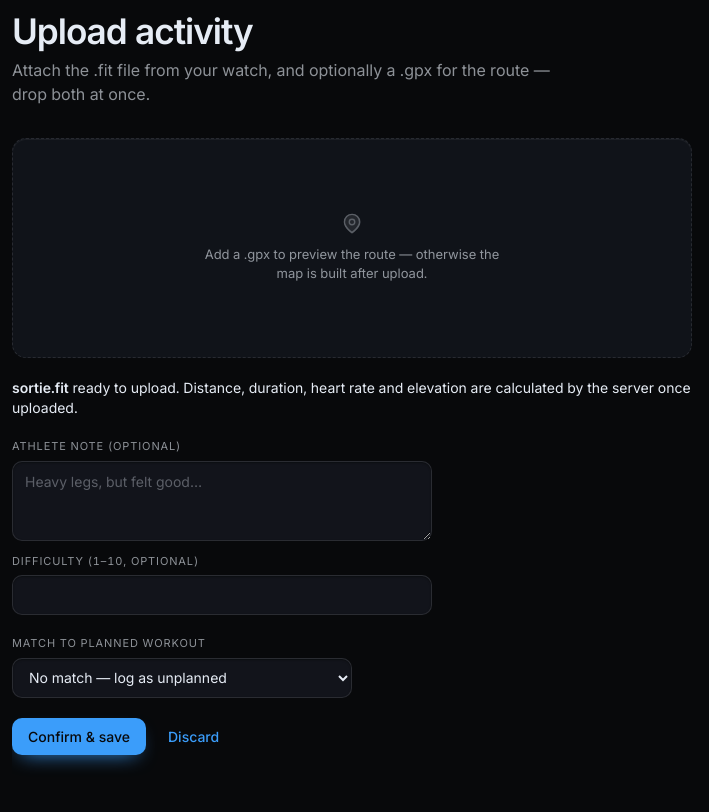
Test: UploadView — envoi › refuse la difficulté 0 sans appeler l’API
The width and height of the screenshot is (709, 812).
Earlier steps of the test are not shown.
Type "0" into the number field labelled "Difficulty (1–10, optional)" at (222, 595), box [12,575,432,615]
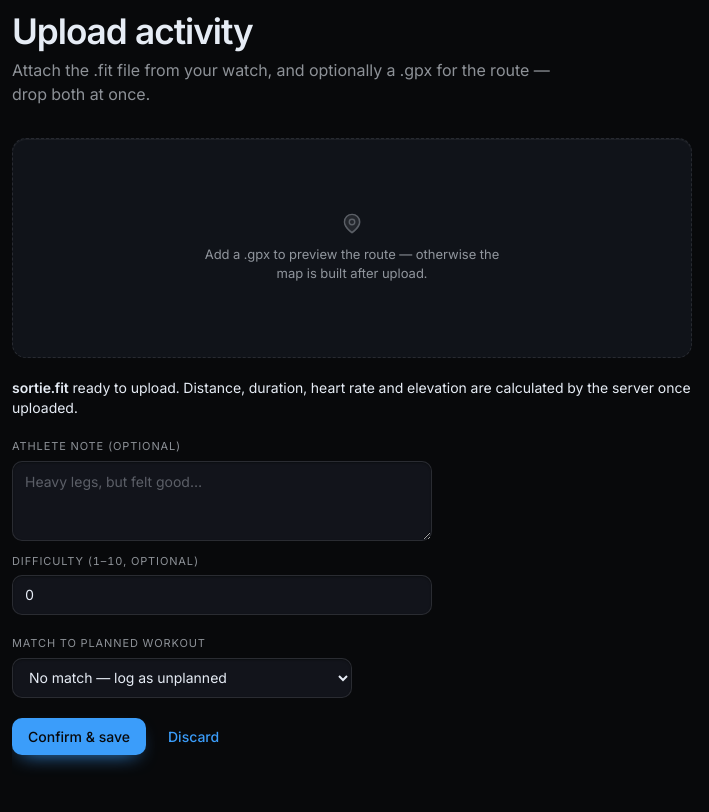
Click the button "Confirm & save" at (79, 736), box [12,718,146,755]
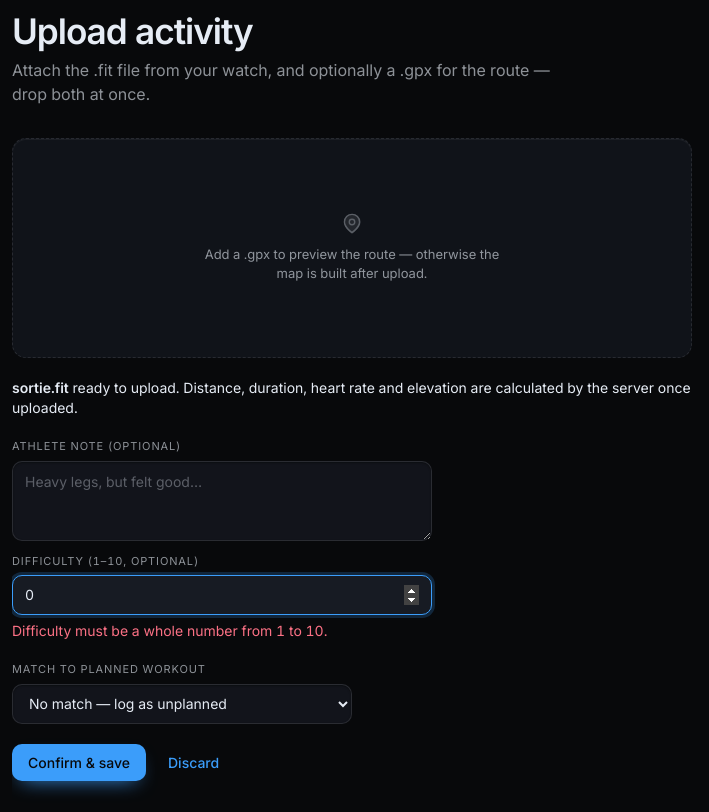
Now the text "Difficulty must be a whole number from 1 to 10." is shown, box [12,622,328,639]
